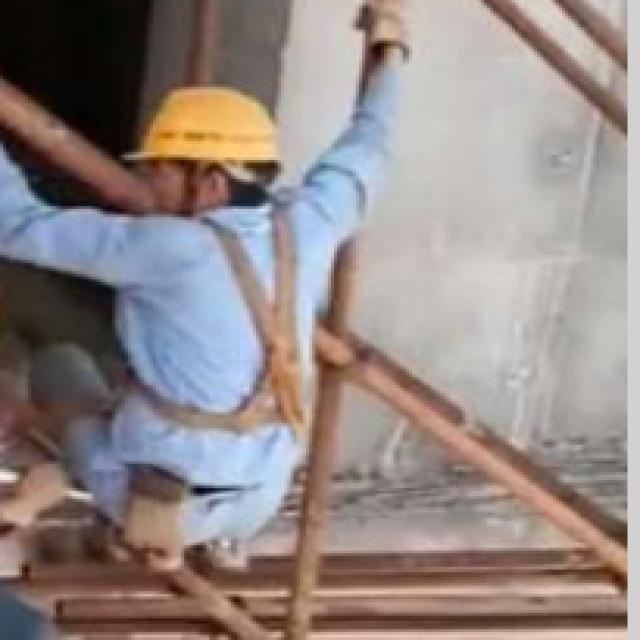Arnes_seguridad: (112, 198, 325, 434)
